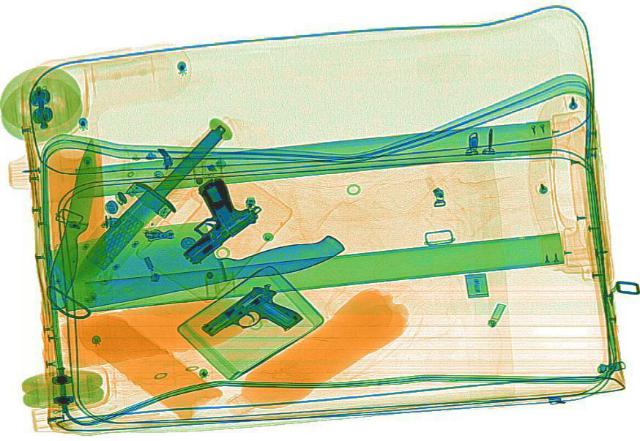Gun: (134, 174, 272, 265), (197, 278, 315, 356)
Knife: (34, 199, 350, 312), (61, 117, 233, 288), (41, 137, 105, 302)
